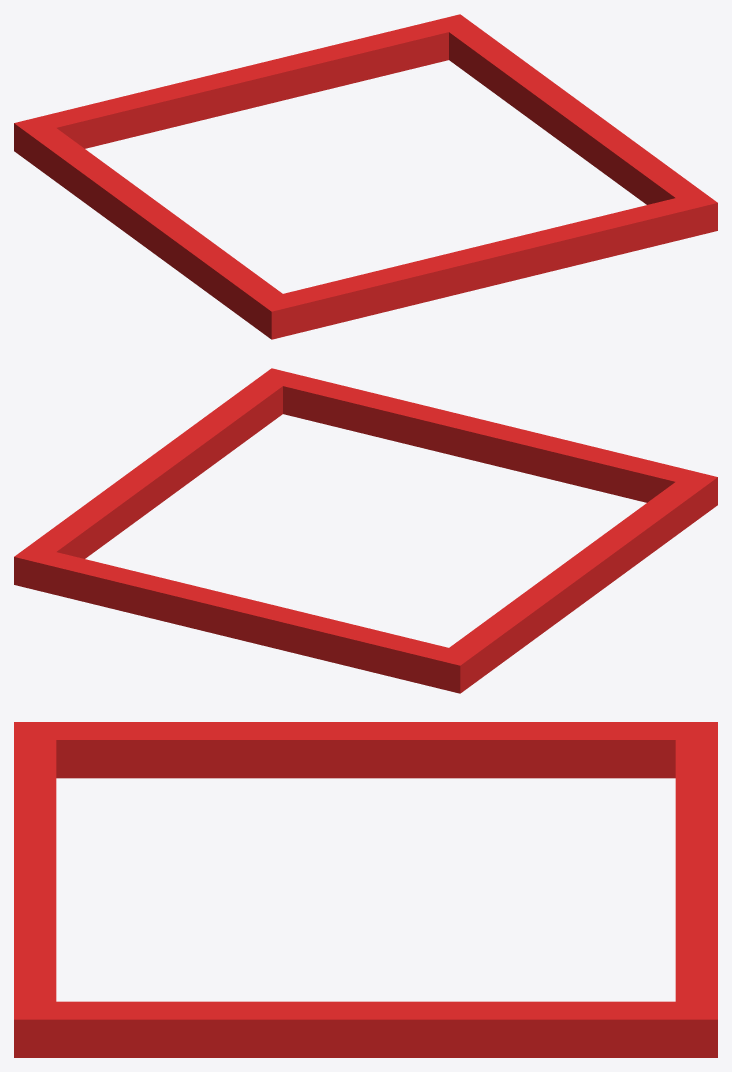
File: border.glb
The picture shows the model from 3 angles, top to bottom: view 1: azimuth 30°, elevation 25°; view 2: azimuth 150°, elevation 25°; view 3: azimuth 270°, elevation 25°; orthographic projection. The views are drawn at different scales.
Visible parts, largest first — view 1: Cube.001; view 2: Cube.001; view 3: Cube.001.
Part boxes in pixels (box(x1,y1,x2,y2)): Cube.001: box(14, 14, 717, 339); Cube.001: box(14, 368, 717, 693); Cube.001: box(14, 722, 717, 1057).
Bounding box in the file's own units: 2 × 0.12 × 2.
